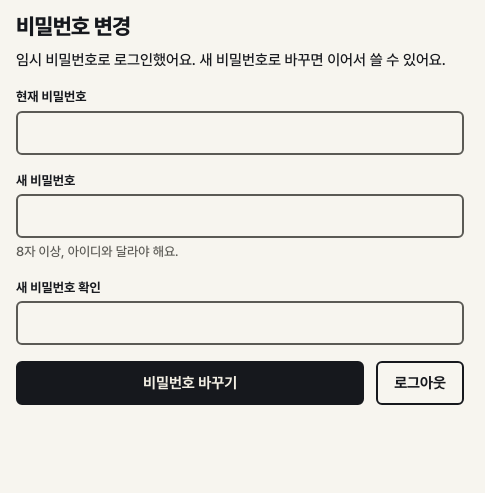
Test: 로그아웃 실패 › 403 csrf 재시도도 실패하면 세션을 그대로 두고 문구를 보여준다
The image size is (485, 493).
What coordinates should you click on to do the following:
click the button "로그아웃"
I would click on:
 (420, 383)
Its box is [376, 361, 464, 405].
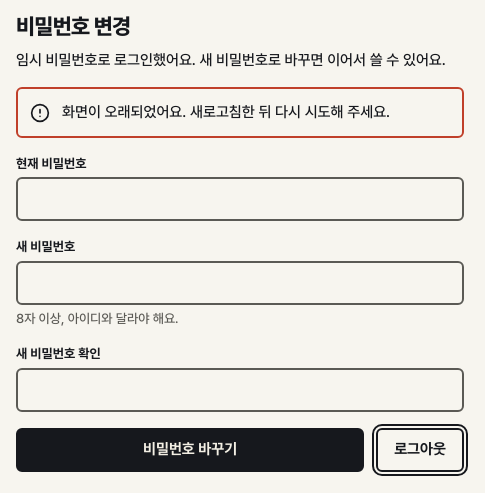
expect the text "화면이 오래되었어요. 새로고침한 뒤 다시 시도해 주세요." is shown: met, box [62, 103, 390, 121]
